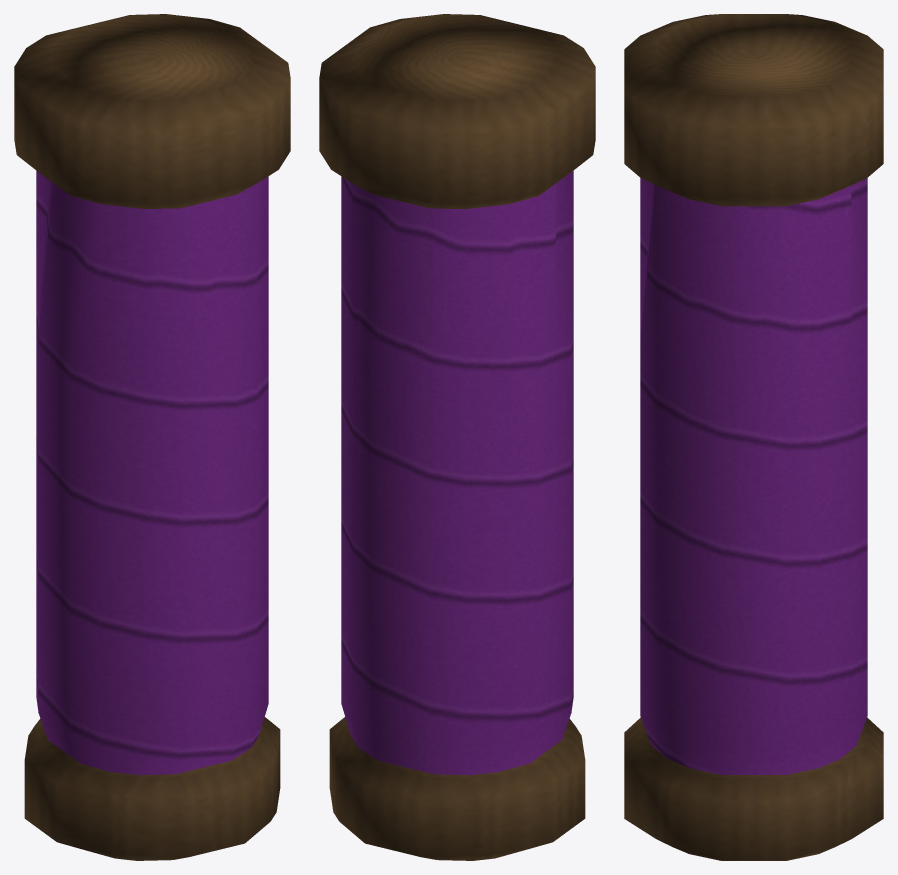
File: whip_handle.glb
3 views of the same model, side by side, from view 1: azimuth 30°, elevation 25°; view 2: azimuth 150°, elevation 25°; view 3: azimuth 270°, elevation 25° (orthographic).
Visible parts, largest first — view 1: Approved coiled whip part 0, Approved coiled whip part 2, Approved coiled whip part 1; view 2: Approved coiled whip part 0, Approved coiled whip part 2, Approved coiled whip part 1; view 3: Approved coiled whip part 0, Approved coiled whip part 2, Approved coiled whip part 1.
Boxes of the visible parts, x1,y1,x2,y2 form: Approved coiled whip part 0: [36, 171, 268, 775]; Approved coiled whip part 2: [14, 14, 290, 209]; Approved coiled whip part 1: [24, 717, 280, 860]; Approved coiled whip part 0: [341, 171, 573, 775]; Approved coiled whip part 2: [319, 14, 595, 209]; Approved coiled whip part 1: [329, 717, 585, 860]; Approved coiled whip part 0: [640, 178, 867, 774]; Approved coiled whip part 2: [624, 14, 883, 206]; Approved coiled whip part 1: [624, 717, 883, 860].
Size of the model in its own units: 4.8 by 15.6 by 4.8.
Materials: 2 (2 with a texture image).
